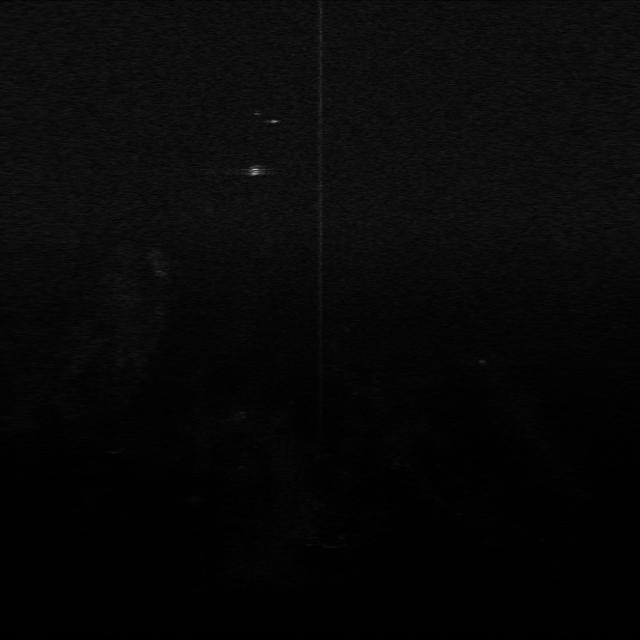rov: (246, 164, 266, 180)
